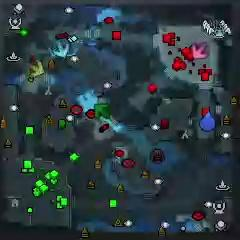p1: (200, 111, 215, 132)
x1: (191, 43, 207, 60)
x2: (26, 60, 45, 78)
x3: (53, 40, 70, 58)
x4: (95, 103, 109, 119)
